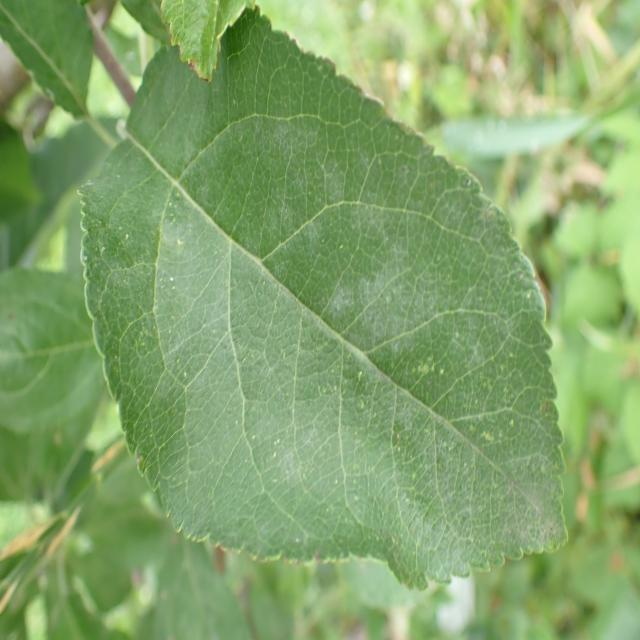Powdery_mildew: (105, 79, 568, 575)
